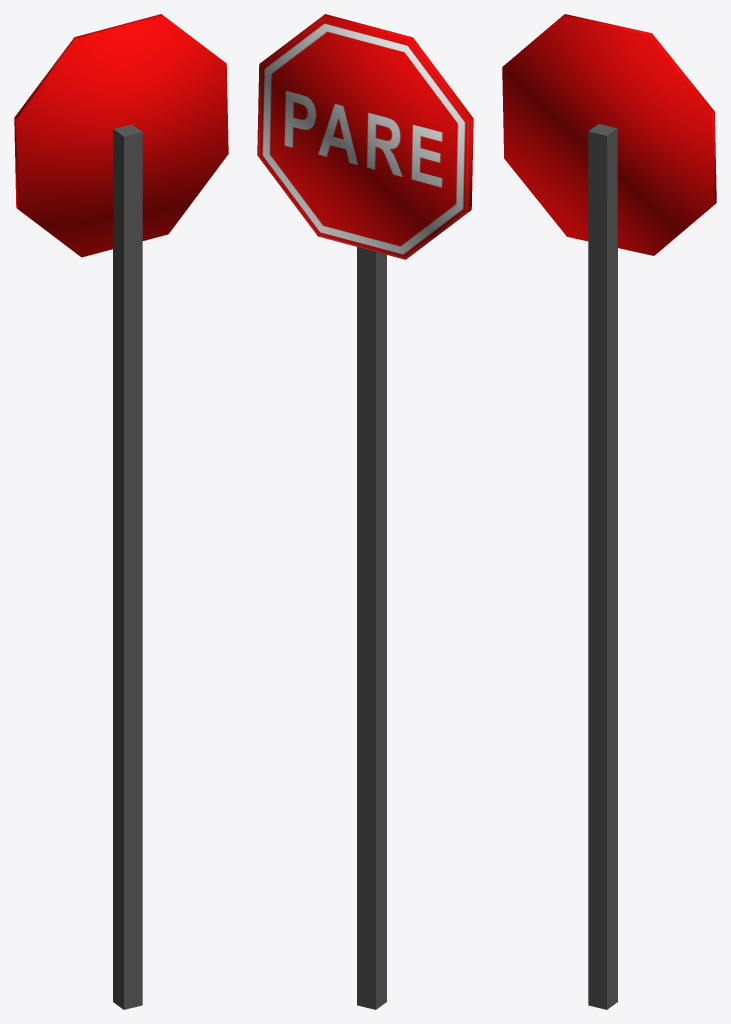
Rendered from PlacaHexagonal.fbx.
The picture shows the model from 3 angles, left to right: view 1: azimuth 30°, elevation 25°; view 2: azimuth 150°, elevation 25°; view 3: azimuth 330°, elevation 25°; orthographic projection.
Parts seen in each view (by area): view 1: PlacaHexagonal; view 2: PlacaHexagonal; view 3: PlacaHexagonal.
Boxes of the visible parts, x1,y1,x2,y2 form: PlacaHexagonal: [14, 14, 228, 1009]; PlacaHexagonal: [257, 14, 473, 1009]; PlacaHexagonal: [502, 14, 716, 1009].
Bounding box in the file's own units: 184 × 811 × 19.9.
